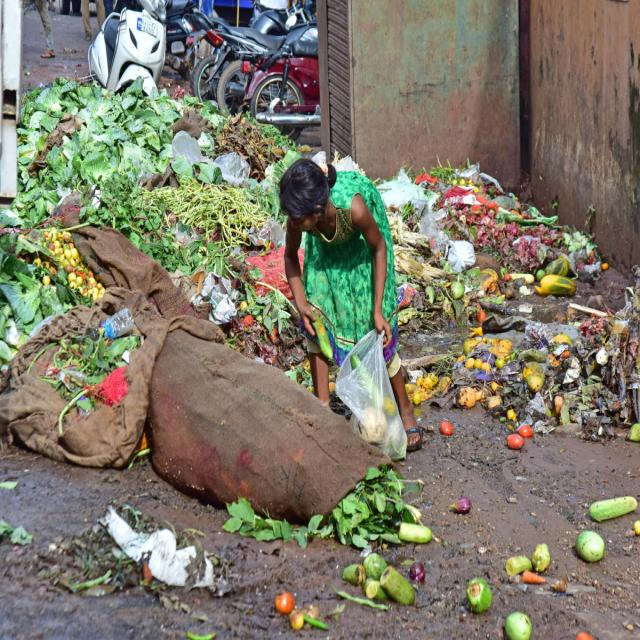Food -Biodegradable-: (0, 81, 312, 395), (374, 166, 640, 436), (219, 471, 428, 631), (40, 526, 156, 602), (503, 546, 554, 588), (587, 495, 638, 519), (464, 575, 491, 612), (501, 609, 531, 640), (570, 532, 604, 555)
